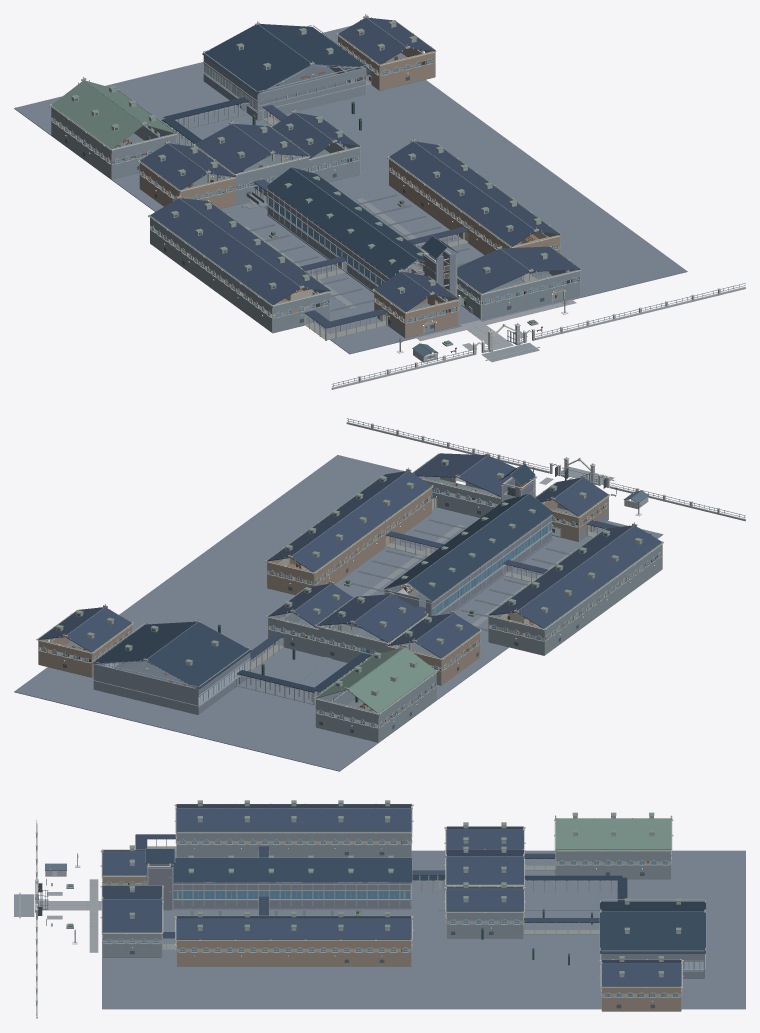
File: lahudi-academy_ANIMATION-STYLE-GATE_V14.glb
3 renders of one model, top to bottom at view 1: azimuth 30°, elevation 25°; view 2: azimuth 150°, elevation 25°; view 3: azimuth 270°, elevation 25°, orthographic. The views are drawn at different scales.
Visible parts, largest first — view 1: RG-GAME-02-EXTERIOR-REBUILD-V5__winter_campus_snowbase, RG-GAME-02-EXTERIOR-REBUILD-V5__academic_high_gable_slate_ro (×2), RG-GAME-02-EXTERIOR-REBUILD-V5__library_high_gable_slate_roo (×2), RG-GAME-02-PLAN-LOCK-V9__B_WEST_side_0, RG-GAME-02-PLAN-LOCK-V9__C_EAST_side_0, RG-GAME-02-PLAN-LOCK-V9__G_ASSEMBLY_side_0, RG-GAME-02-PLAN-LOCK-V9__B_WEST_side_1, RG-GAME-02-PLAN-LOCK-V9__B_WEST_west_wall_band_-68.00_24.00 (×2), RG-GAME-02-PLAN-LOCK-V9__E_CENTER_HALL_side_0, RG-GAME-02-PLAN-LOCK-V9__D_EAST_ENTRY_side_0, RG-GAME-02-PLAN-LOCK-V9__C_EAST_west_wall_band_-68.00_24.00 (×2), RG-GAME-02-PLAN-LOCK-V9__F_LIBRARY_SOUTH_REPLACEMENT_wall_ba (×2) (+27 smaller); view 2: RG-GAME-02-EXTERIOR-REBUILD-V5__winter_campus_snowbase, RG-GAME-02-EXTERIOR-REBUILD-V5__academic_high_gable_slate_ro (×2), RG-GAME-02-EXTERIOR-REBUILD-V5__library_high_gable_slate_roo (×2), RG-GAME-02-PLAN-LOCK-V9__B_WEST_side_0, RG-GAME-02-PLAN-LOCK-V9__C_EAST_side_0, RG-GAME-02-EXTERIOR-REBUILD-V5__library_endwall_north, RG-GAME-02-PLAN-LOCK-V9__G_ASSEMBLY_side_0, RG-GAME-02-PLAN-LOCK-V9__B_WEST_side_1, RG-GAME-02-PLAN-LOCK-V9__B_WEST_west_wall_band_-68.00_24.00 (×2), RG-GAME-02-PLAN-LOCK-V9__E_CENTER_HALL_side_0, RG-GAME-02-PLAN-LOCK-V9__C_EAST_west_wall_band_-68.00_24.00 (×2), RG-GAME-02-PLAN-LOCK-V9__C_EAST_side_1 (+24 smaller); view 3: RG-GAME-02-EXTERIOR-REBUILD-V5__winter_campus_snowbase, RG-GAME-02-EXTERIOR-REBUILD-V5__academic_high_gable_slate_ro, RG-GAME-02-EXTERIOR-REBUILD-V5__library_high_gable_slate_roo (×2), RG-GAME-02-PLAN-LOCK-V9__B_WEST_side_1, RG-GAME-02-PLAN-LOCK-V9__C_EAST_side_1, RG-GAME-02-PLAN-LOCK-V9__G_ASSEMBLY_side_1, RG-GAME-02-PLAN-LOCK-V9__C_EAST_east_wall_band_-68.00_24.00 (×2), RG-GAME-02-PLAN-LOCK-V9__B_WEST_east_wall_band_-68.00_24.00 (×2), RG-GAME-02-PLAN-LOCK-V9__E_CENTER_HALL_side_1, RG-GAME-02-PLAN-LOCK-V9__C_EAST_east_low_wall_-68.00_24.00, RG-GAME-02-PLAN-LOCK-V9__D_EAST_ENTRY_side_1, RG-GAME-02-PLAN-LOCK-V9__G_ASSEMBLY_east_wall_band_-170.00_- (×2) (+37 smaller).
Boxes of the visible parts, box(x1,y1,x2,y2) form: RG-GAME-02-EXTERIOR-REBUILD-V5__winter_campus_snowbase: box(14, 25, 687, 354); RG-GAME-02-EXTERIOR-REBUILD-V5__academic_high_gable_slate_ro (×2): box(266, 167, 434, 277); RG-GAME-02-EXTERIOR-REBUILD-V5__library_high_gable_slate_roo (×2): box(202, 24, 367, 94); RG-GAME-02-PLAN-LOCK-V9__B_WEST_side_0: box(150, 198, 300, 304); RG-GAME-02-PLAN-LOCK-V9__C_EAST_side_0: box(389, 142, 534, 246); RG-GAME-02-PLAN-LOCK-V9__G_ASSEMBLY_side_0: box(52, 81, 143, 149); RG-GAME-02-PLAN-LOCK-V9__B_WEST_side_1: box(180, 198, 330, 291); RG-GAME-02-PLAN-LOCK-V9__B_WEST_west_wall_band_-68.00_24.00 (×2): box(150, 215, 272, 323); RG-GAME-02-PLAN-LOCK-V9__E_CENTER_HALL_side_0: box(195, 124, 271, 173); RG-GAME-02-PLAN-LOCK-V9__D_EAST_ENTRY_side_0: box(457, 249, 529, 293); RG-GAME-02-PLAN-LOCK-V9__C_EAST_west_wall_band_-68.00_24.00 (×2): box(389, 158, 511, 251); RG-GAME-02-PLAN-LOCK-V9__F_LIBRARY_SOUTH_REPLACEMENT_wall_ba (×2): box(257, 68, 365, 111); RG-GAME-02-EXTERIOR-REBUILD-V5__winter_campus_snowbase: box(14, 455, 663, 771); RG-GAME-02-EXTERIOR-REBUILD-V5__academic_high_gable_slate_ro (×2): box(384, 494, 553, 600); RG-GAME-02-EXTERIOR-REBUILD-V5__library_high_gable_slate_roo (×2): box(92, 621, 251, 689); RG-GAME-02-PLAN-LOCK-V9__B_WEST_side_0: box(517, 526, 661, 628); RG-GAME-02-PLAN-LOCK-V9__C_EAST_side_0: box(291, 471, 431, 572); RG-GAME-02-EXTERIOR-REBUILD-V5__library_endwall_north: box(93, 664, 198, 714); RG-GAME-02-PLAN-LOCK-V9__G_ASSEMBLY_side_0: box(348, 647, 436, 713); RG-GAME-02-PLAN-LOCK-V9__B_WEST_side_1: box(488, 525, 633, 615); RG-GAME-02-PLAN-LOCK-V9__B_WEST_west_wall_band_-68.00_24.00 (×2): box(544, 542, 662, 646); RG-GAME-02-PLAN-LOCK-V9__E_CENTER_HALL_side_0: box(353, 594, 426, 642); RG-GAME-02-PLAN-LOCK-V9__C_EAST_west_wall_band_-68.00_24.00 (×2): box(314, 486, 431, 586); RG-GAME-02-PLAN-LOCK-V9__C_EAST_side_1: box(267, 471, 407, 561); RG-GAME-02-EXTERIOR-REBUILD-V5__winter_campus_snowbase: box(102, 850, 745, 1009); RG-GAME-02-EXTERIOR-REBUILD-V5__academic_high_gable_slate_ro: box(170, 858, 411, 882); RG-GAME-02-EXTERIOR-REBUILD-V5__library_high_gable_slate_roo (×2): box(600, 901, 705, 953); RG-GAME-02-PLAN-LOCK-V9__B_WEST_side_1: box(176, 808, 411, 831); RG-GAME-02-PLAN-LOCK-V9__C_EAST_side_1: box(176, 918, 411, 939); RG-GAME-02-PLAN-LOCK-V9__G_ASSEMBLY_side_1: box(555, 818, 671, 849); RG-GAME-02-PLAN-LOCK-V9__C_EAST_east_wall_band_-68.00_24.00 (×2): box(177, 940, 411, 957); RG-GAME-02-PLAN-LOCK-V9__B_WEST_east_wall_band_-68.00_24.00 (×2): box(177, 833, 411, 850); RG-GAME-02-PLAN-LOCK-V9__E_CENTER_HALL_side_1: box(446, 856, 523, 884); RG-GAME-02-PLAN-LOCK-V9__C_EAST_east_low_wall_-68.00_24.00: box(177, 958, 411, 966); RG-GAME-02-PLAN-LOCK-V9__D_EAST_ENTRY_side_1: box(102, 899, 162, 932); RG-GAME-02-PLAN-LOCK-V9__G_ASSEMBLY_east_wall_band_-170.00_- (×2): box(556, 851, 670, 870).
Size of the model in its own units: 180 by 26.24 by 288.
